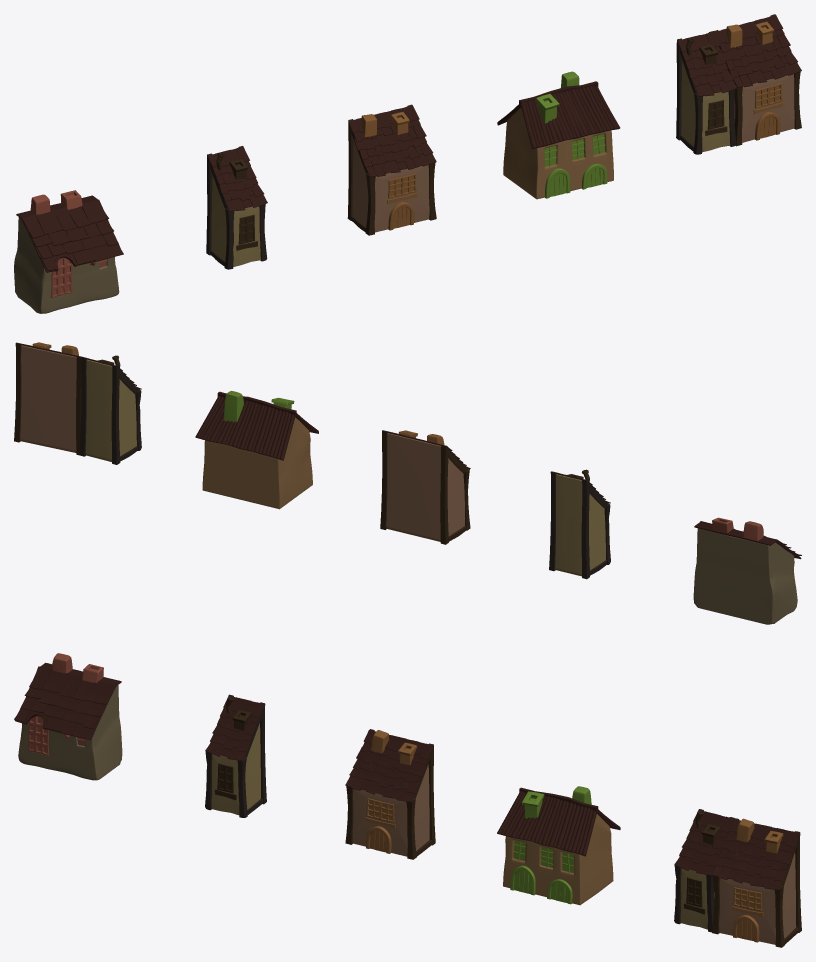
Rendered from HouseTwoThroughSixCombined_Fortexture.obj.
3 views of the same model, one above another, from view 1: azimuth 30°, elevation 25°; view 2: azimuth 150°, elevation 25°; view 3: azimuth 330°, elevation 25° (orthographic).
Visible parts, largest first — view 1: polySurface94; view 2: polySurface94; view 3: polySurface94.
Boxes of the visible parts, x1,y1,x2,y2 form: polySurface94: [14, 14, 801, 313]; polySurface94: [14, 342, 801, 624]; polySurface94: [14, 653, 801, 947].
Bounding box in the file's own units: 28.64 × 3.69 × 2.46.
